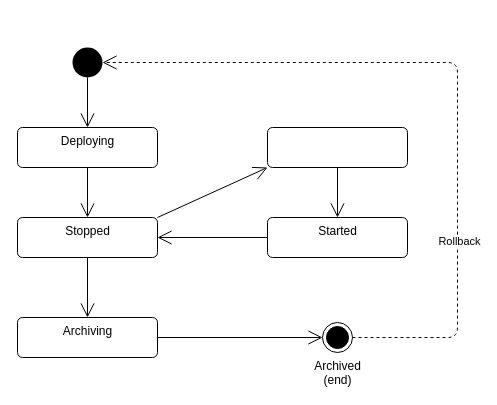
This 497x405 diagram has some shape labels left out. Here are the shapes that lost their labels. From the top down, the box of each, then its label:
(72, 47, 102, 77): (Start) Ready
(266, 126, 408, 168): Loading
